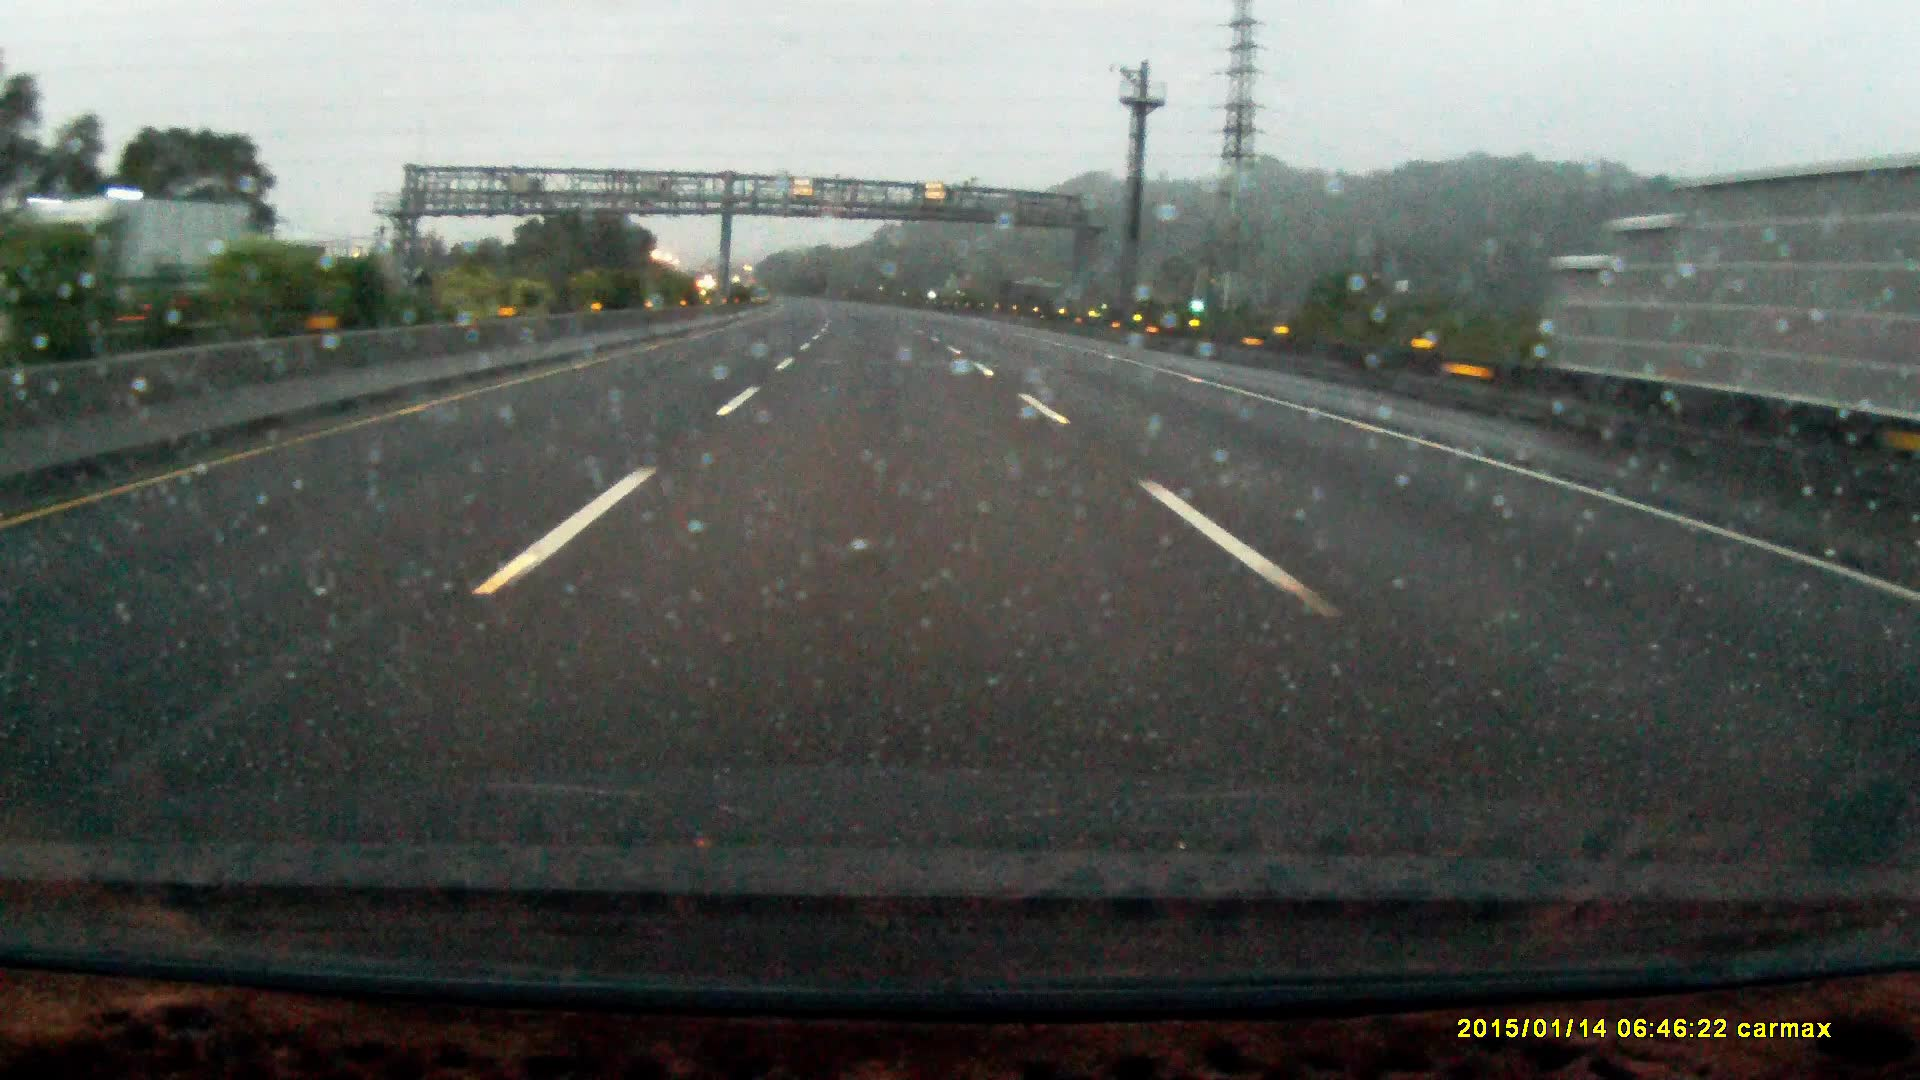vehicle: (1, 195, 249, 328), (1, 280, 121, 357)
